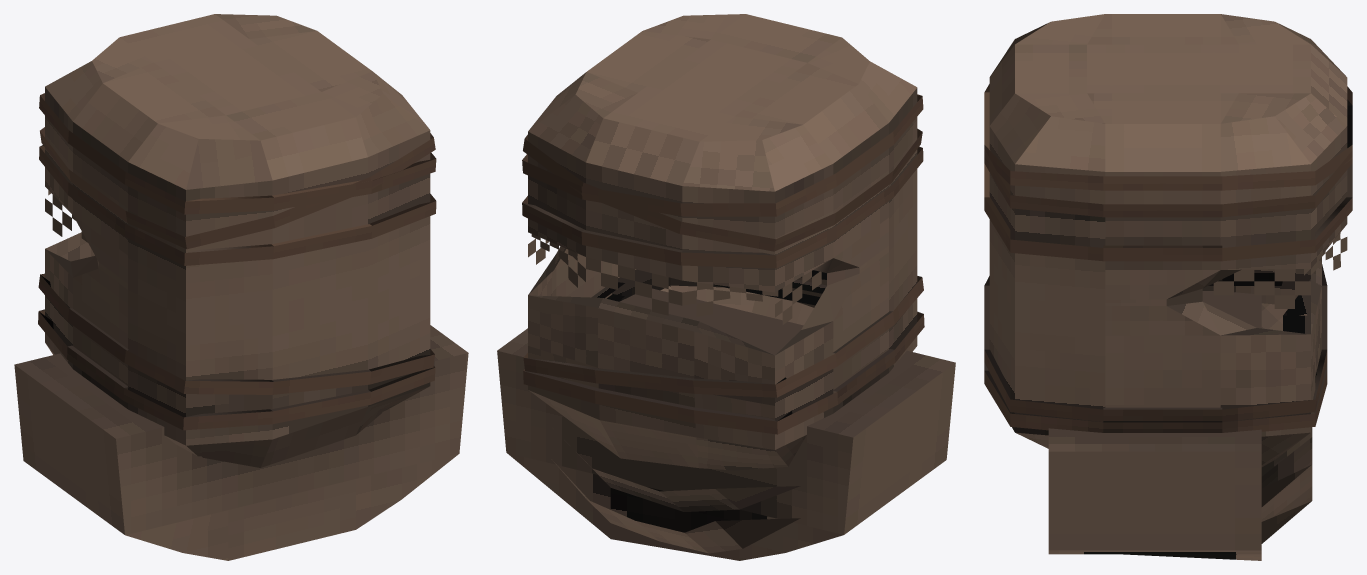
3 renders of one model, left to right at view 1: azimuth 30°, elevation 25°; view 2: azimuth 150°, elevation 25°; view 3: azimuth 270°, elevation 25°, orthographic. The views are drawn at different scales.
Parts seen in each view (by area): view 1: head_selection, body; view 2: head_selection, body; view 3: head_selection, body.
Part boxes in pixels (<box>): head_selection: <box>38,14,436,467</box>; body: <box>14,325,468,560</box>; head_selection: <box>522,14,924,470</box>; body: <box>497,288,955,560</box>; head_selection: <box>984,14,1352,466</box>; body: <box>1048,291,1312,560</box>.
Size of the model in its own units: 0.7395 by 0.8772 by 0.6373.
1 material, 1 textured.
